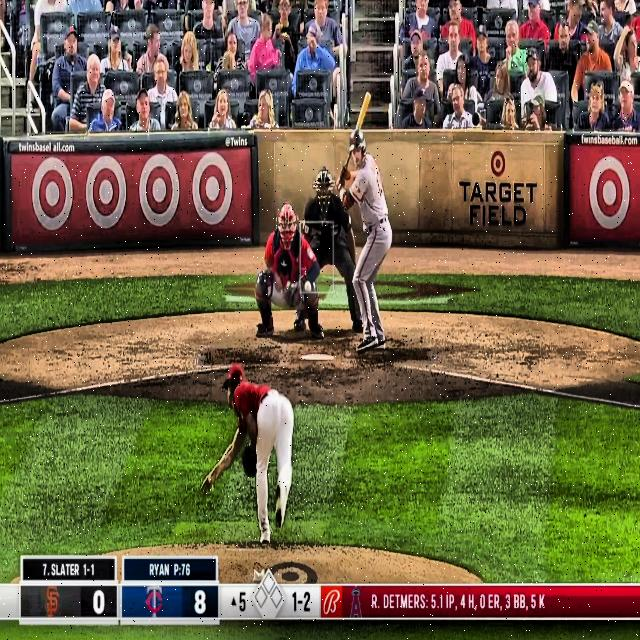baseball: (304, 280, 313, 296)
